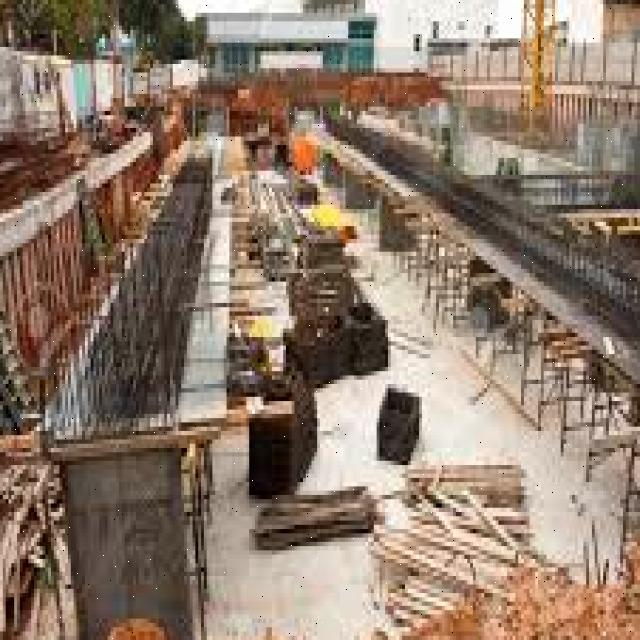Foundation: (314, 68, 640, 478), (58, 124, 272, 639)
